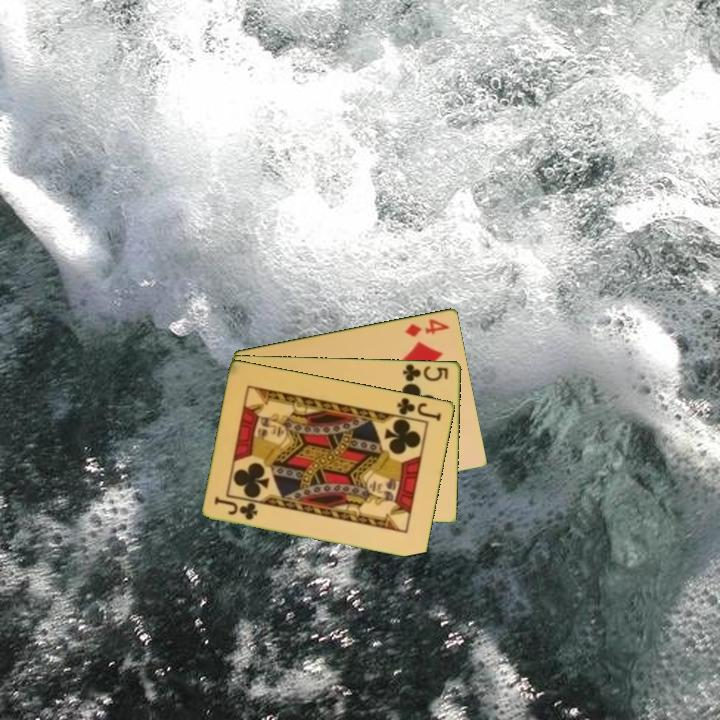4d: (401, 315, 453, 339)
5c: (399, 361, 451, 384)
Jc: (394, 394, 445, 424), (211, 493, 261, 523)
